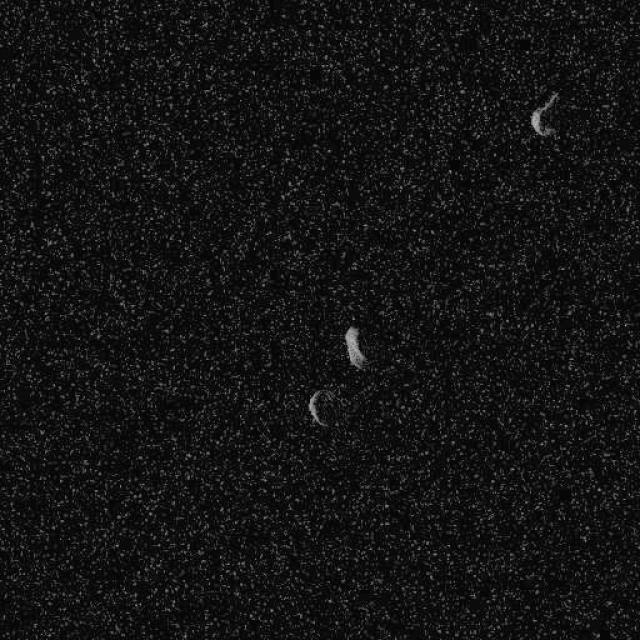D2: (529, 90, 560, 138), (306, 388, 336, 428), (342, 324, 368, 370)
